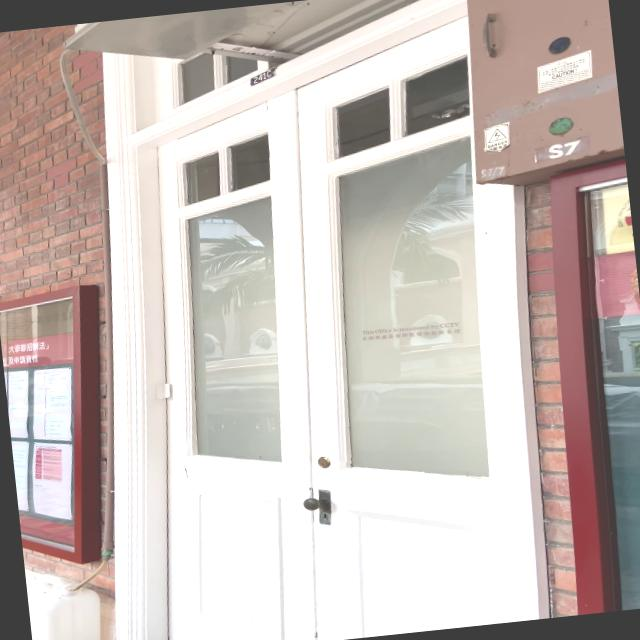room241c: (246, 64, 279, 88)
